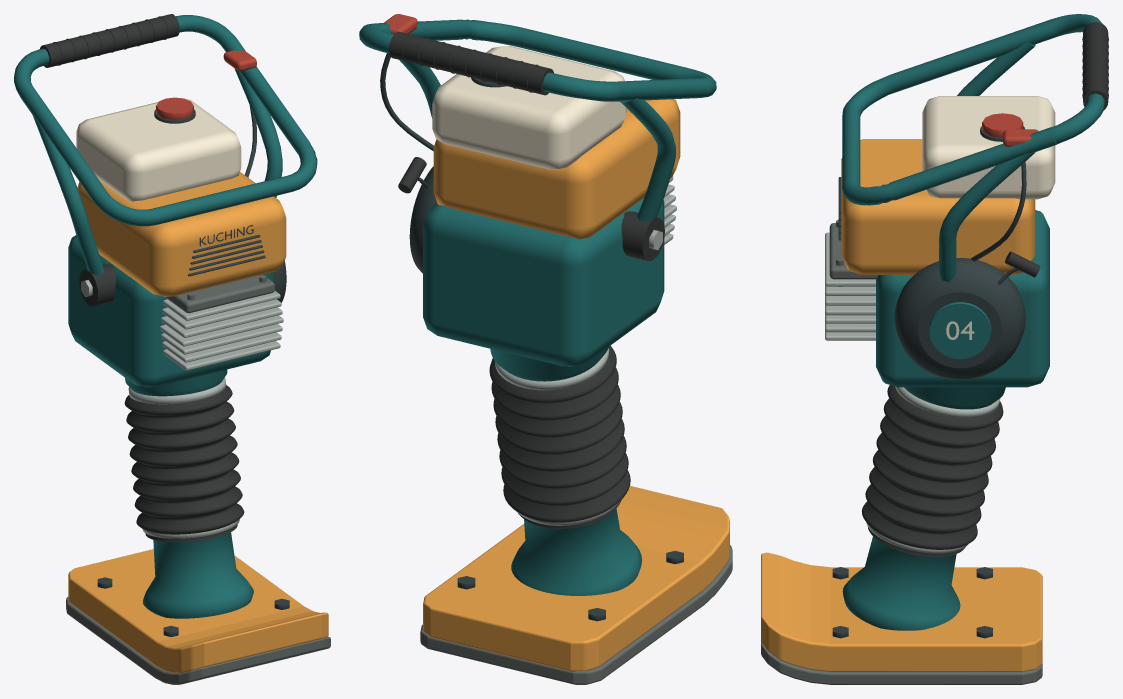
The picture shows the model from 3 angles, left to right: view 1: azimuth 30°, elevation 25°; view 2: azimuth 150°, elevation 25°; view 3: azimuth 270°, elevation 25°; orthographic projection. The views are drawn at different scales.
Visible parts, largest first — view 1: Power unit, Drive leg, Control handle, Shoe, Reservoir; view 2: Power unit, Shoe, Drive leg, Control handle, Reservoir, Pull starter; view 3: Power unit, Shoe, Drive leg, Control handle, Pull starter, Reservoir.
Boxes of the visible parts, x1,y1,x2,y2 form: Power unit: (68, 172, 286, 387); Drive leg: (124, 369, 253, 618); Control handle: (14, 14, 317, 306); Shoe: (66, 549, 330, 684); Reservoir: (76, 97, 241, 201); Power unit: (423, 99, 680, 366); Shoe: (420, 486, 732, 684); Drive leg: (489, 345, 641, 595); Control handle: (359, 14, 716, 260); Reservoir: (432, 46, 626, 169); Pull starter: (398, 157, 437, 273); Power unit: (825, 139, 1049, 387); Shoe: (761, 552, 1042, 684); Drive leg: (842, 385, 1005, 630); Control handle: (842, 14, 1108, 282); Pull starter: (894, 251, 1040, 379); Reservoir: (922, 96, 1055, 199).
Bounding box in the file's own units: 0.4165 × 0.98 × 0.524.
